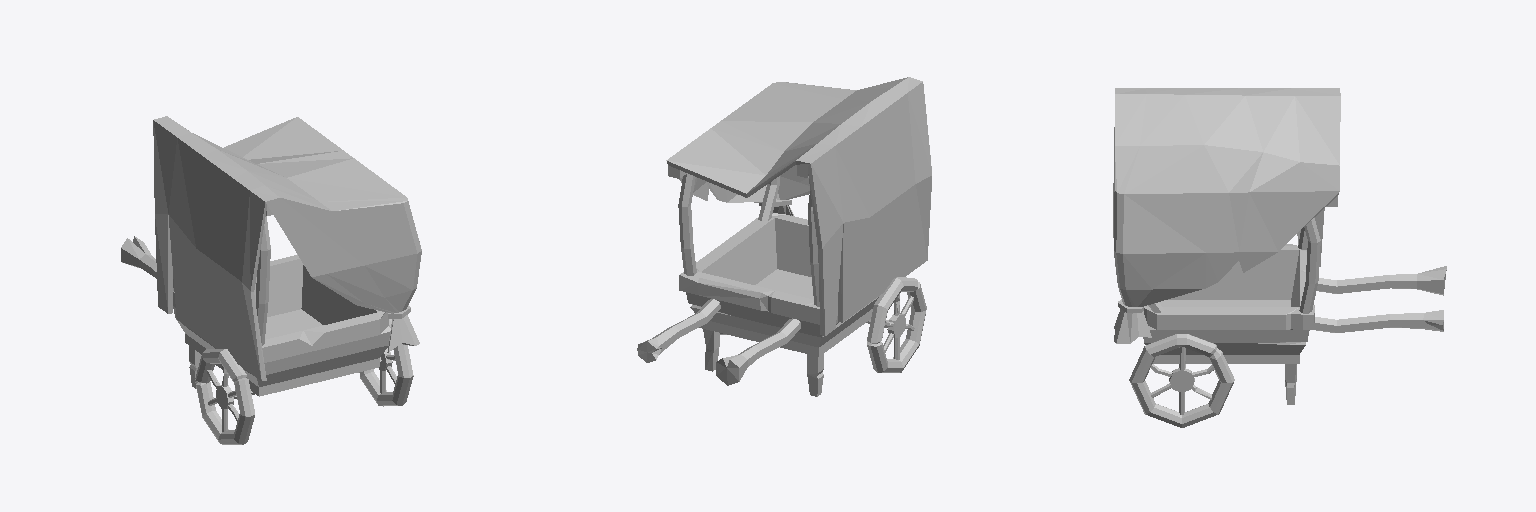
The model's file is cart03.obj.
The picture shows the model from 3 angles: view 1: azimuth 30°, elevation 25°; view 2: azimuth 150°, elevation 25°; view 3: azimuth 270°, elevation 25°; orthographic projection.
Visible parts, largest first — view 1: cart03; view 2: cart03; view 3: cart03.
Boxes of the visible parts, <box> form: cart03: <box>121,116,421,444</box>; cart03: <box>637,77,931,396</box>; cart03: <box>1113,88,1446,427</box>.
Size of the model in its own units: 0.0225 by 0.0332 by 0.0375.